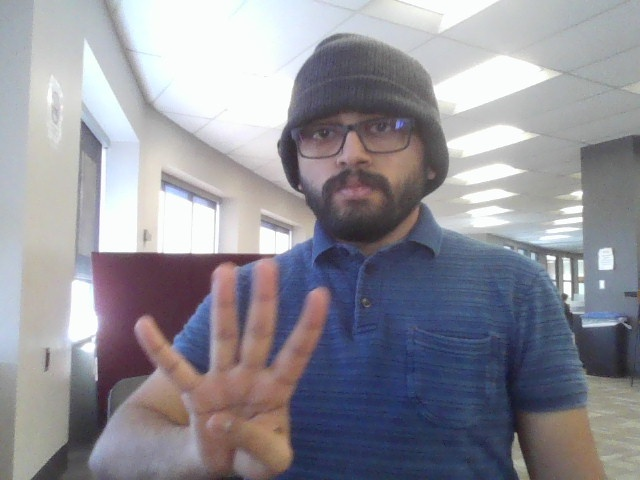start: (137, 260, 364, 477)
